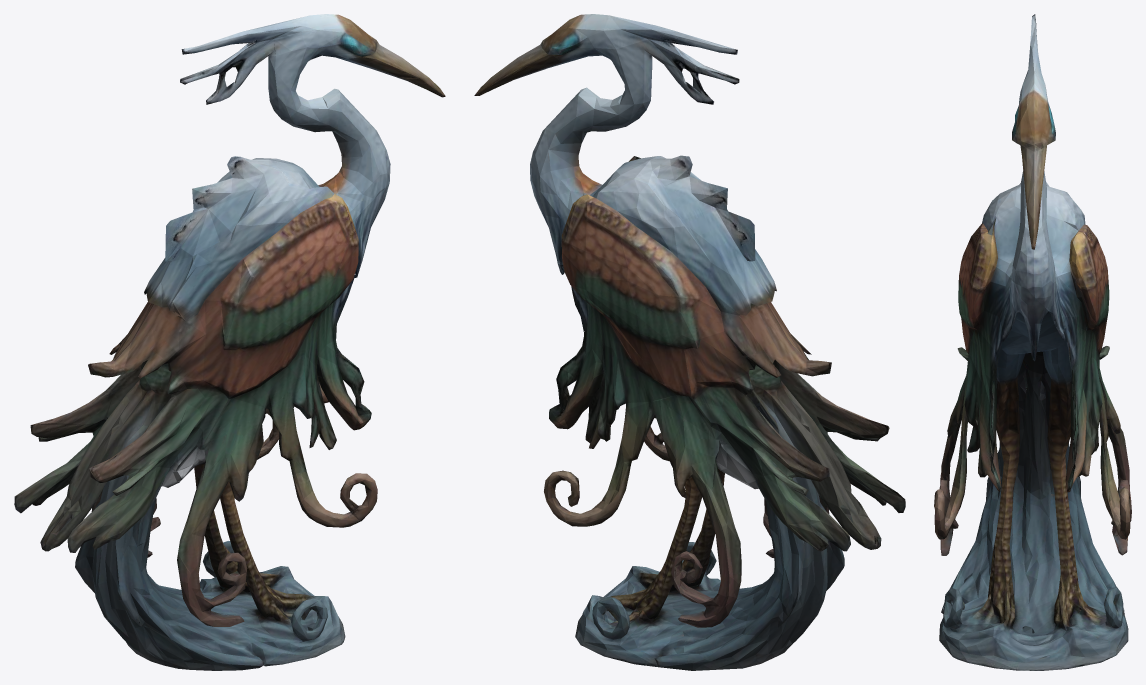
File: heronWraith.glb
The picture shows the model from 3 angles, left to right: view 1: azimuth 30°, elevation 25°; view 2: azimuth 150°, elevation 25°; view 3: azimuth 270°, elevation 25°; orthographic projection.
Parts seen in each view (by area): view 1: world; view 2: world; view 3: world.
Part boxes in pixels (bbox=[...]): world: bbox=[14, 14, 445, 670]; world: bbox=[474, 14, 905, 670]; world: bbox=[934, 14, 1131, 670].
Bounding box in the file's own units: 0.7083 × 0.9998 × 0.3042.
Materials: 1 (1 with a texture image).
